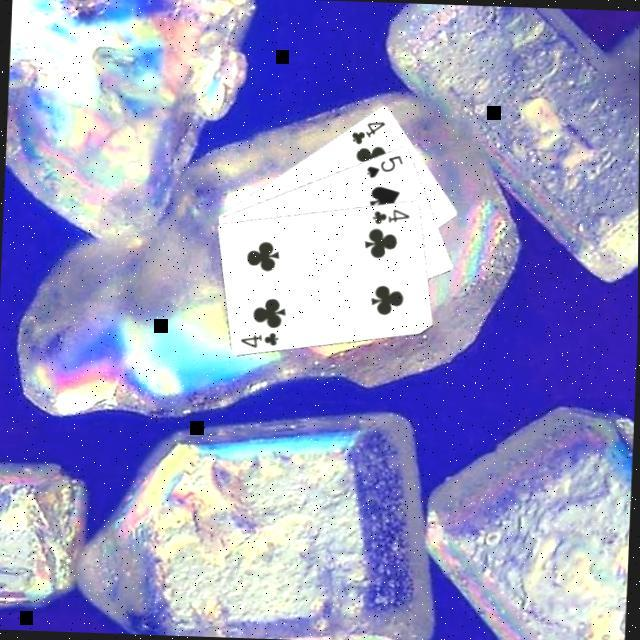4C: (345, 118, 386, 149), (234, 329, 279, 353), (367, 206, 411, 229)
5S: (361, 152, 404, 183)
